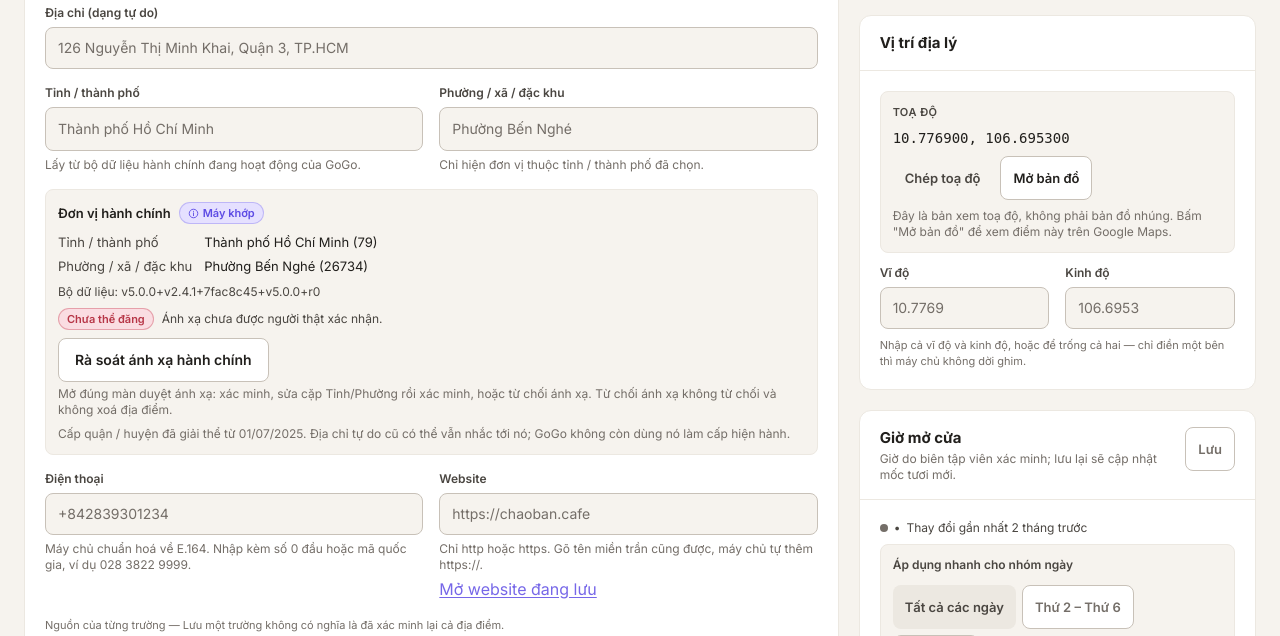
Scenario: reviewing a place mapping from the editor › shows the reviewer both levels with codes, the source, the dataset and the blocker
The image size is (1280, 636).
(page scrolled)
Click the button "Rà soát ánh xạ hành chính" at (163, 360), box [58, 338, 268, 382]
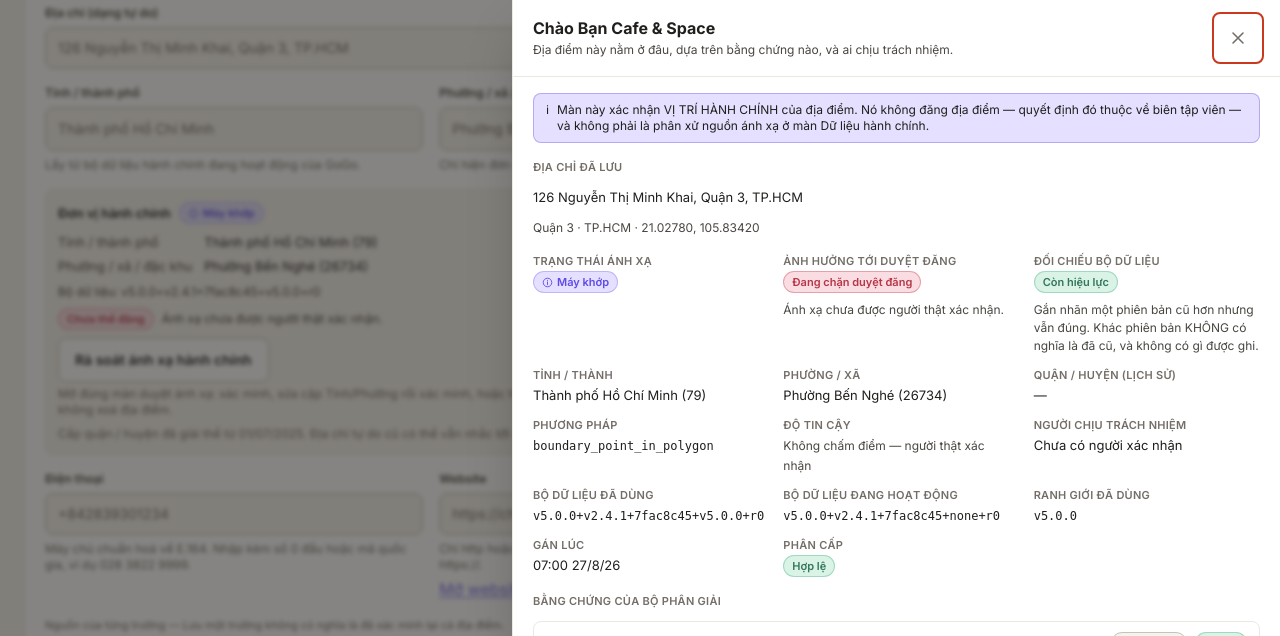
Check: the text "Thành phố Hồ Chí Minh (79)" is shown, box [533, 387, 706, 403]
Check: the text "Phường Bến Nghé (26734)" is shown, box [783, 387, 947, 403]
Check: the text "boundary_point_in_polygon" is shown, box [533, 439, 714, 453]
